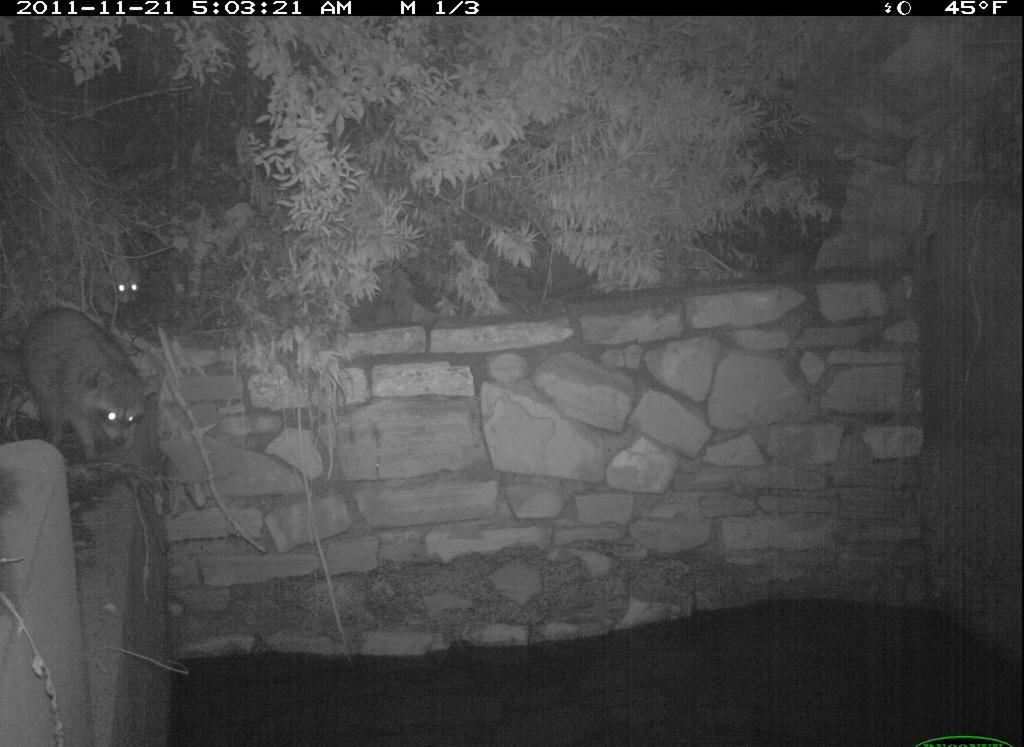raccoon: (12, 297, 162, 468), (90, 242, 158, 314)
